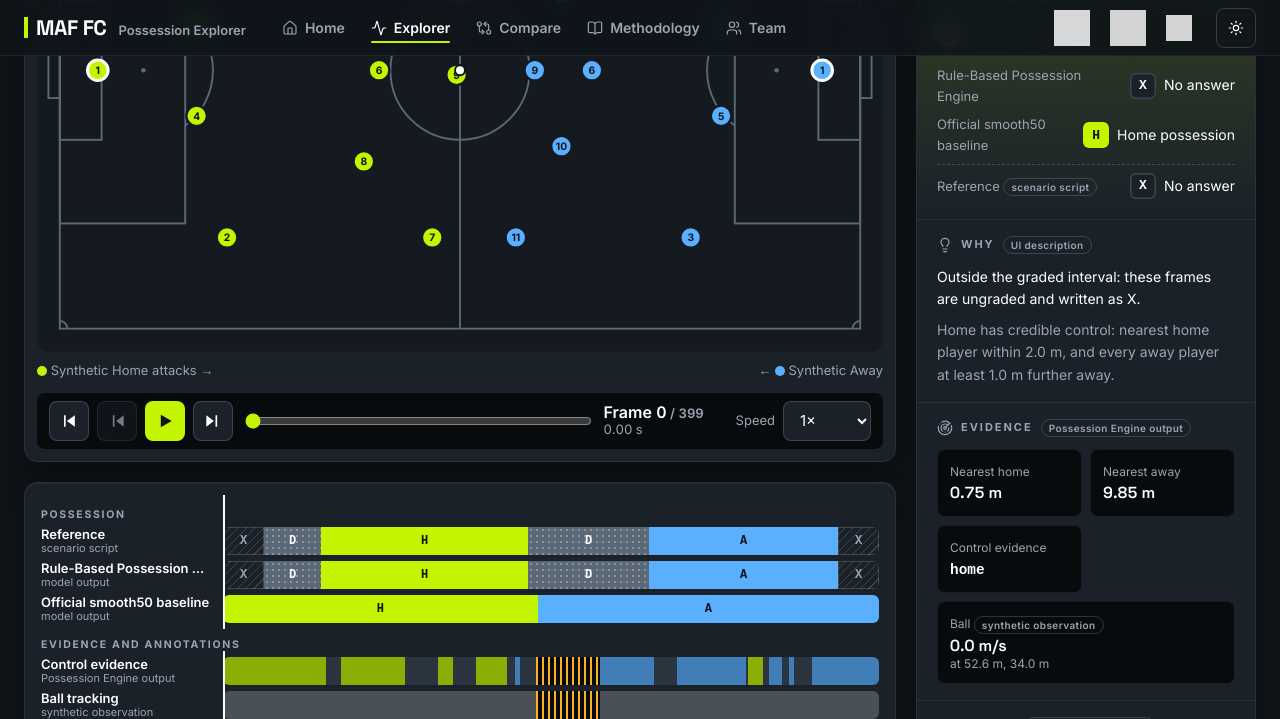
Test: Explorer app › keeps pitch, timeline, transport and inspector on the same frame
(page scrolled)
Expected: the element with test id "readout" is shown, left=604, top=402, right=704, bottom=437
Set the slider named "Frame" to "200" at (419, 421), box left=245, top=405, right=592, bottom=437
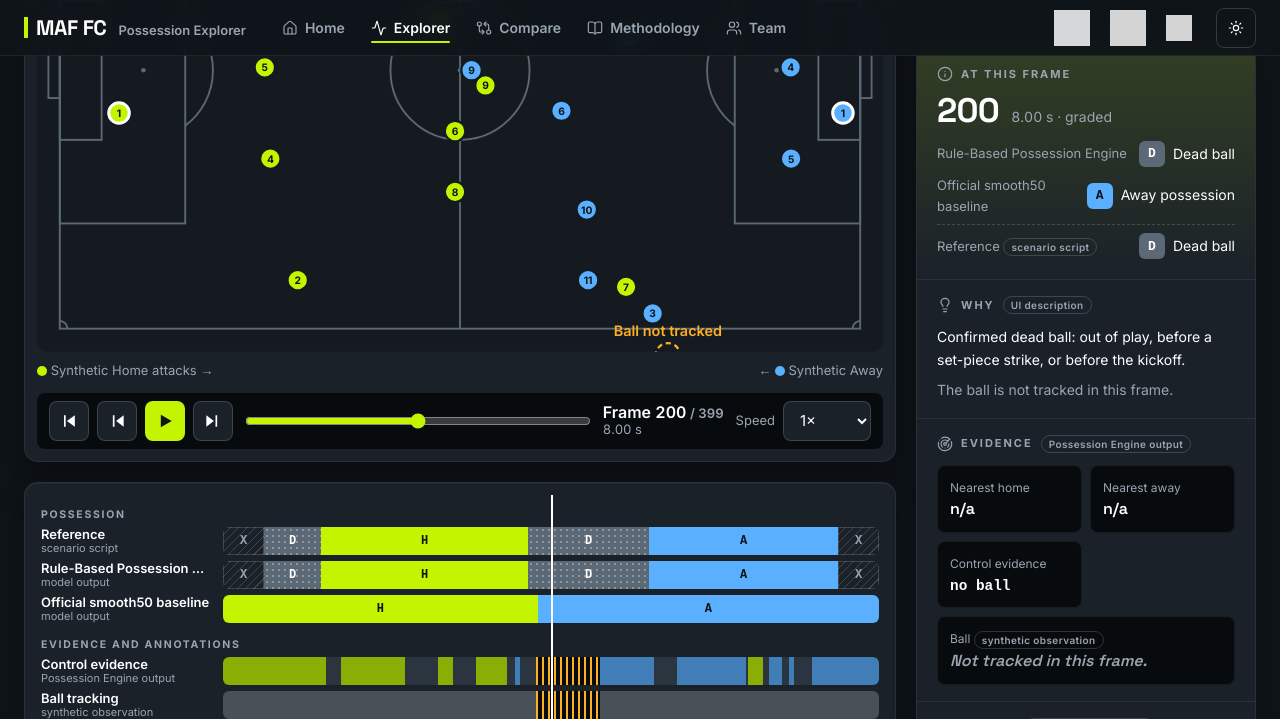
Result: the element with test id "readout" shows "Frame 200" at left=603, top=403, right=724, bottom=438
Result: the text "200" is shown at left=937, top=94, right=999, bottom=128
Result: the text named "Dead ball" is shown at left=1139, top=140, right=1165, bottom=166
